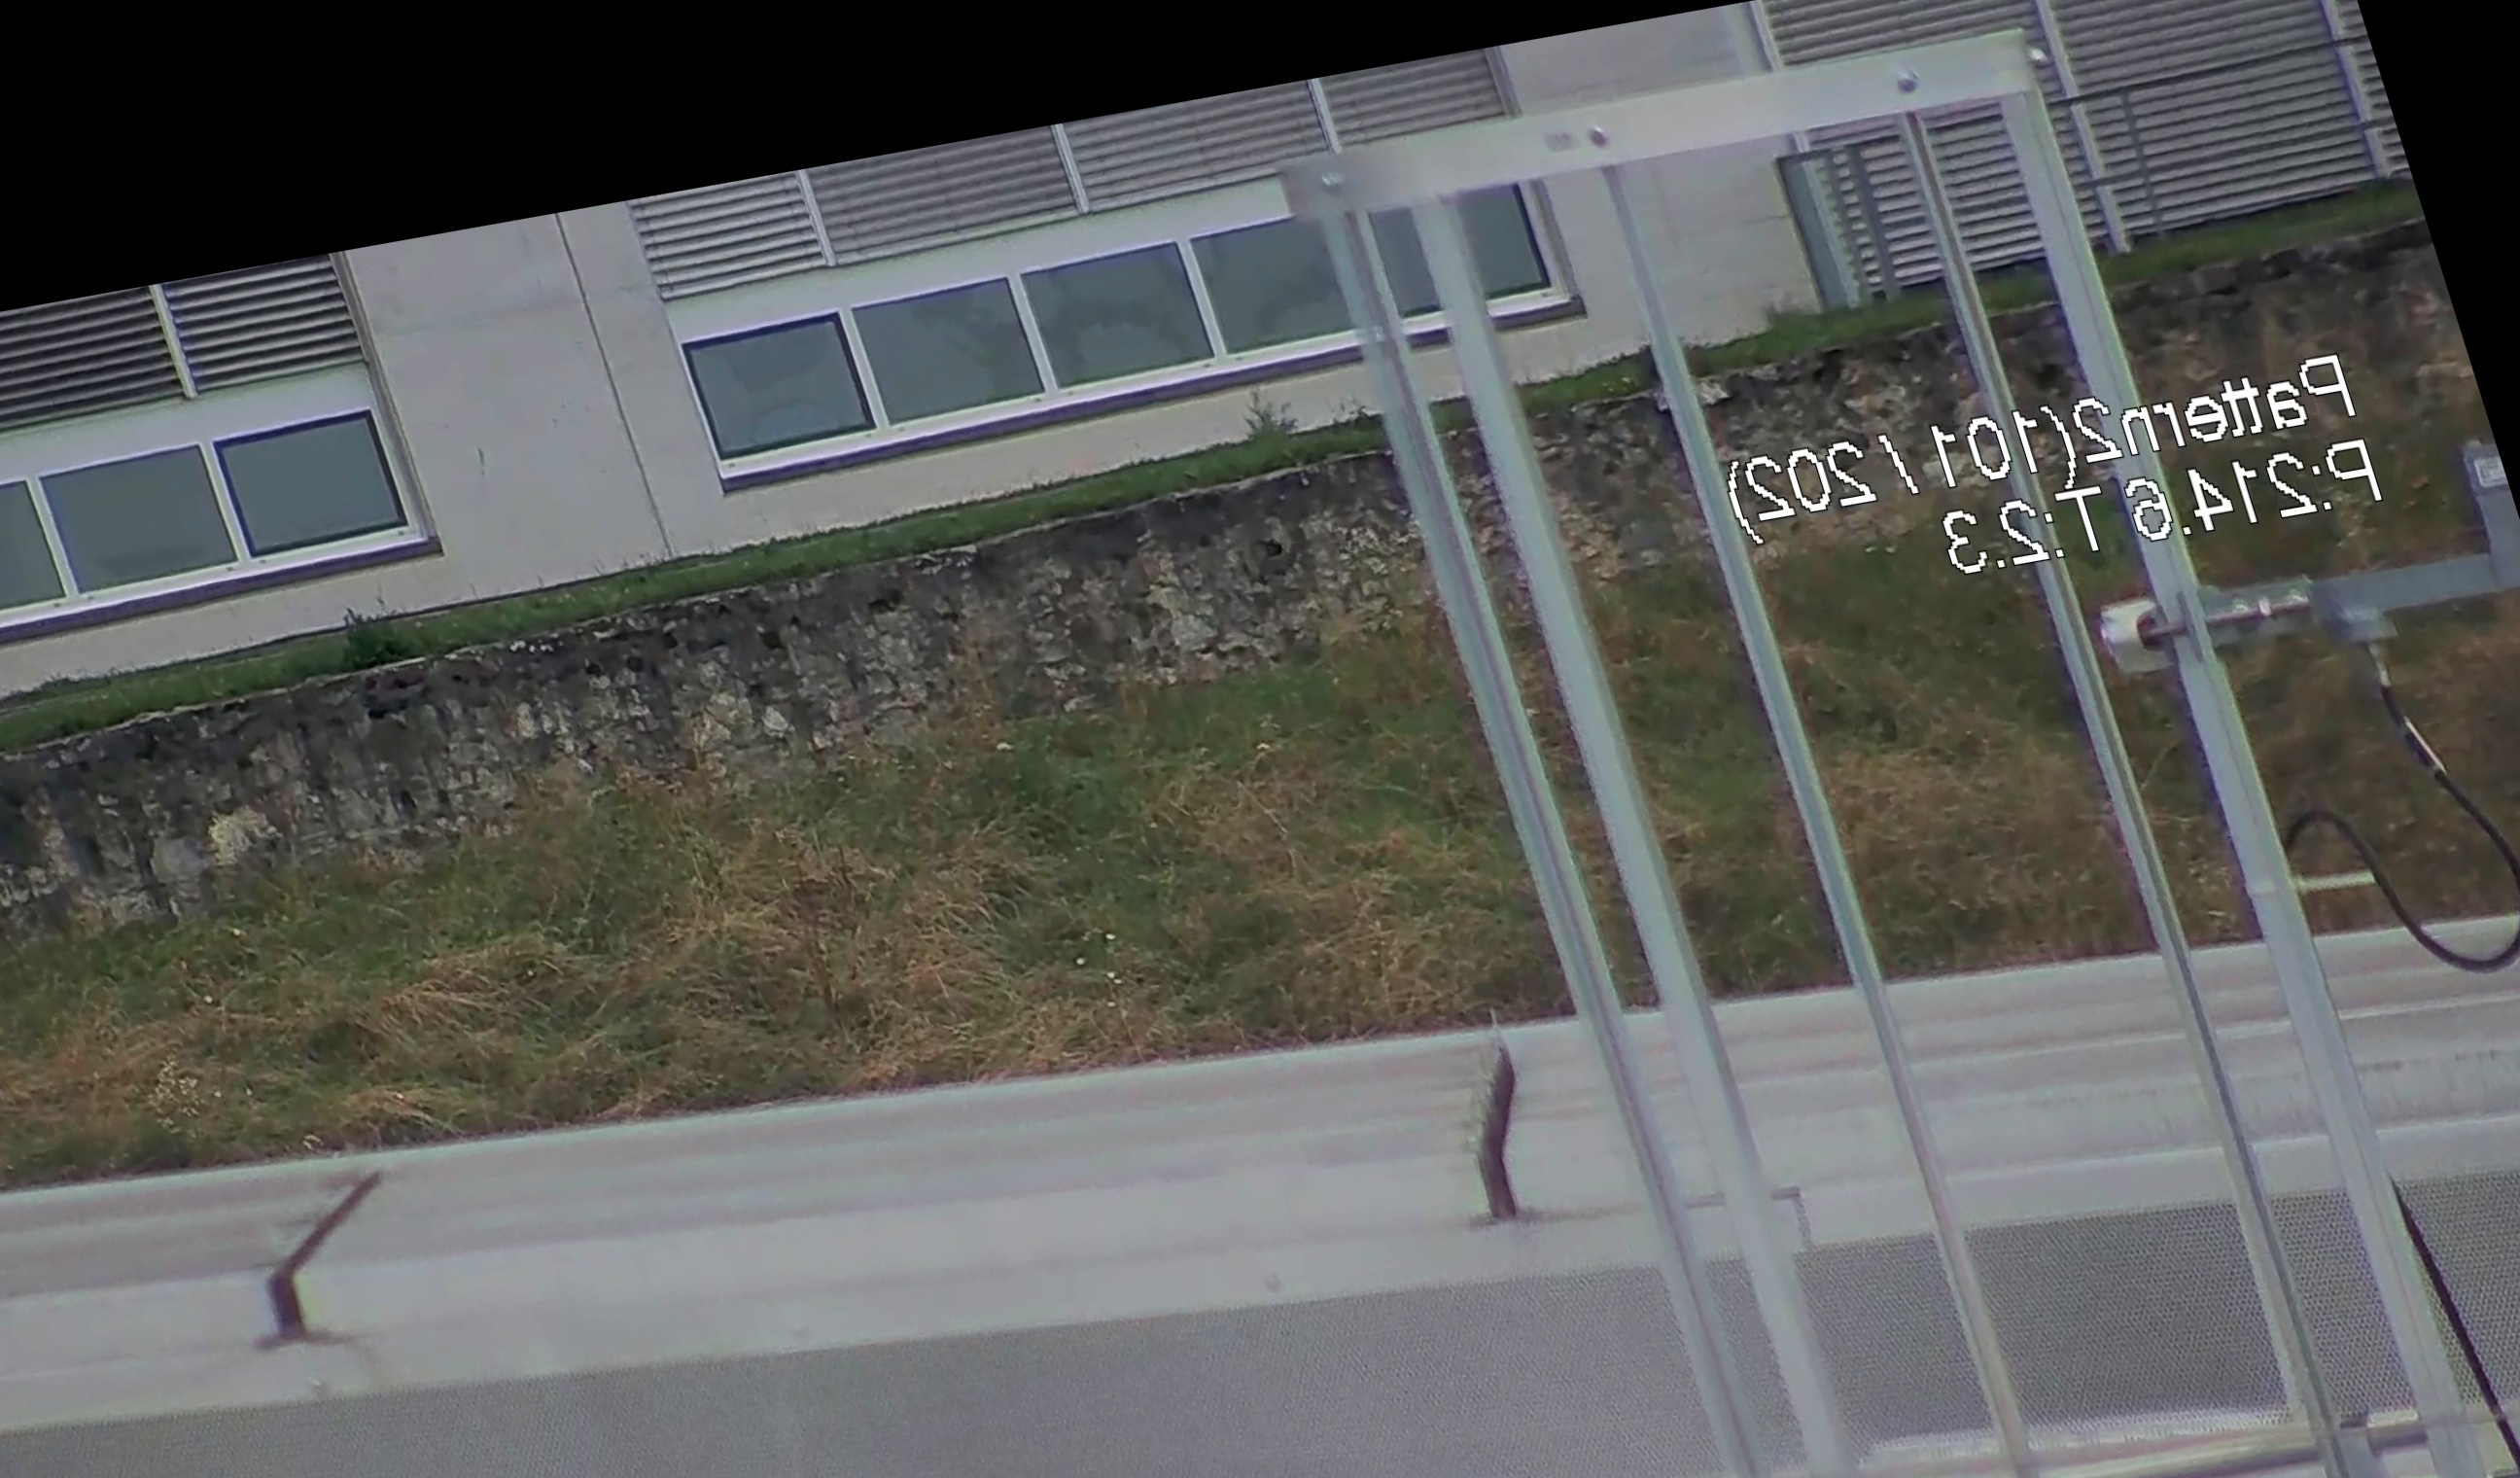Other: (1412, 1012, 1593, 1246)
